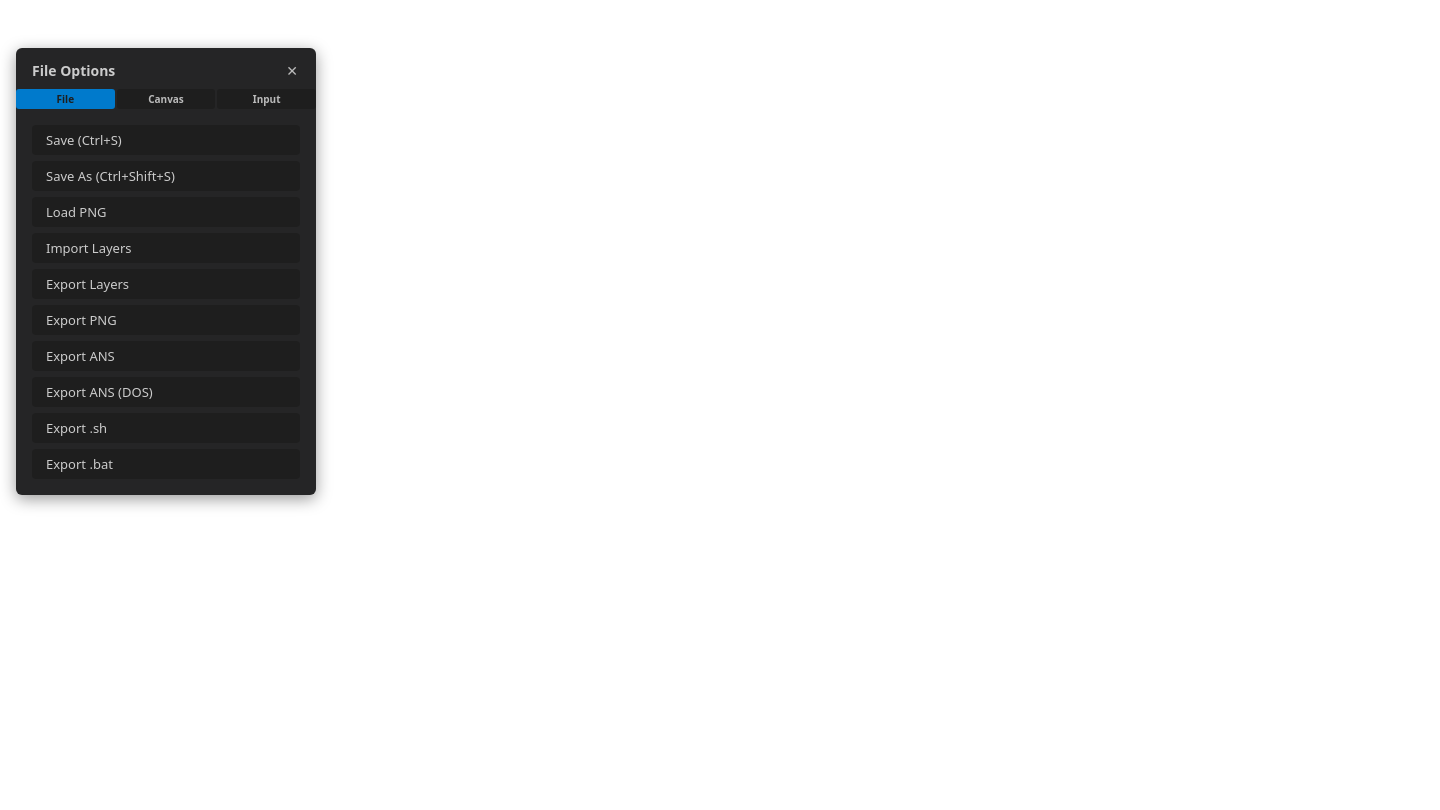
Test: FileOptionsModal › tabs › switches to Canvas tab content on click
The width and height of the screenshot is (1440, 810).
Click the tab with test id "file-options-tab-canvas": (166, 99) [117, 89, 215, 109]
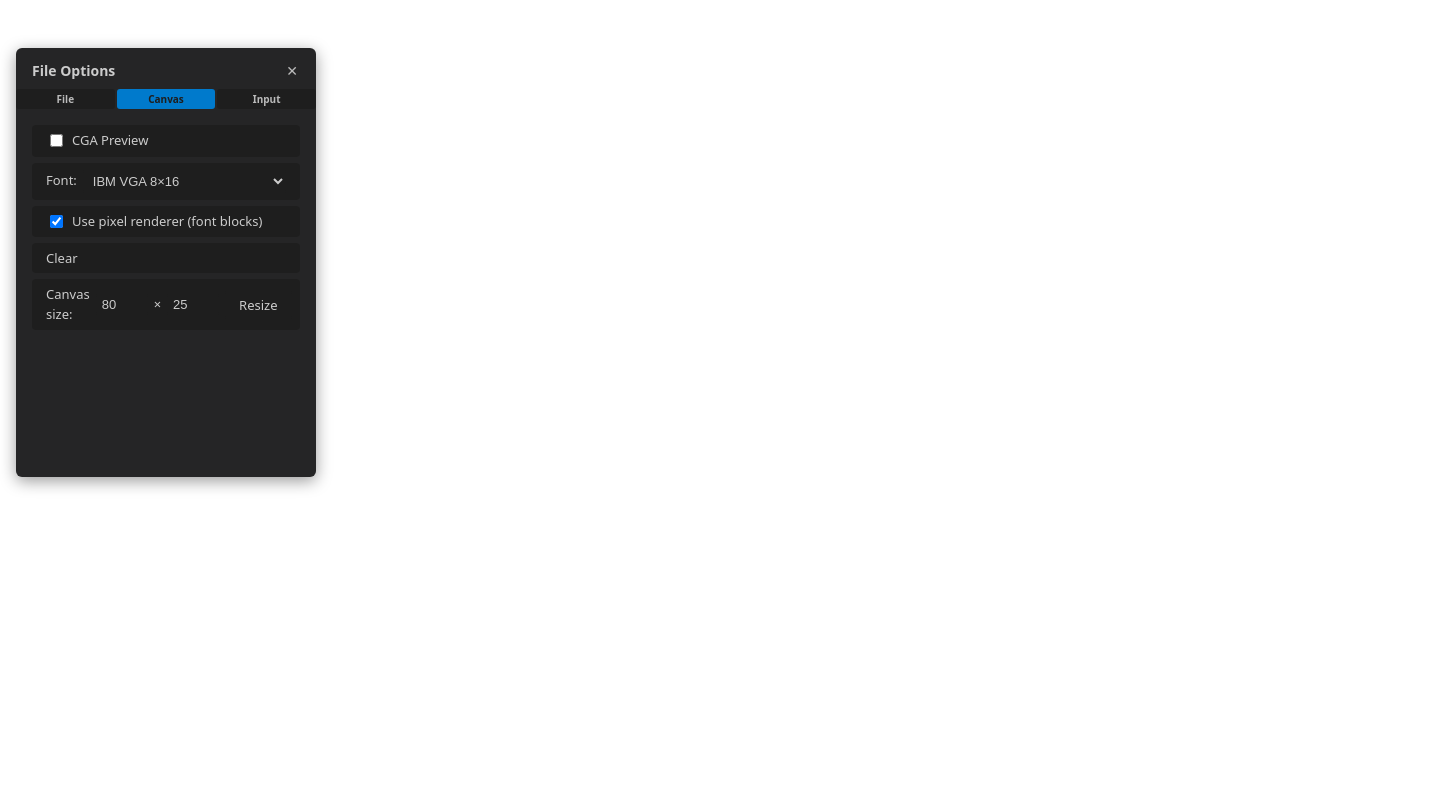
Expected: the checkbox with test id "file-cga-preview" is shown, [50, 134, 63, 147]
Expected: the button with test id "file-resize-apply" is shown, [225, 290, 292, 320]
Expected: the button with test id "file-save" is gone
